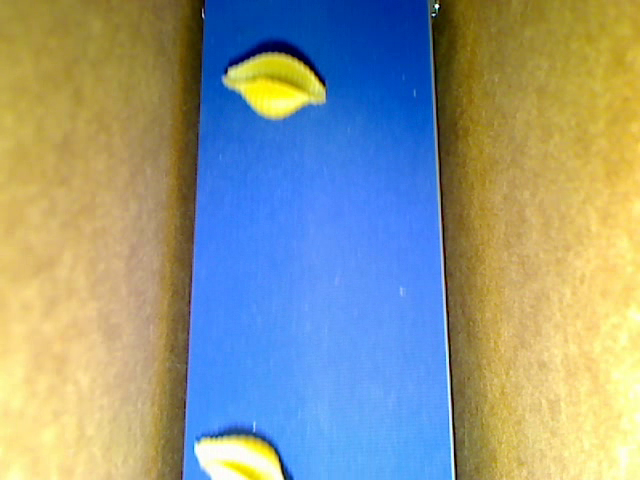shell: (221, 51, 326, 119), (194, 435, 283, 479)
